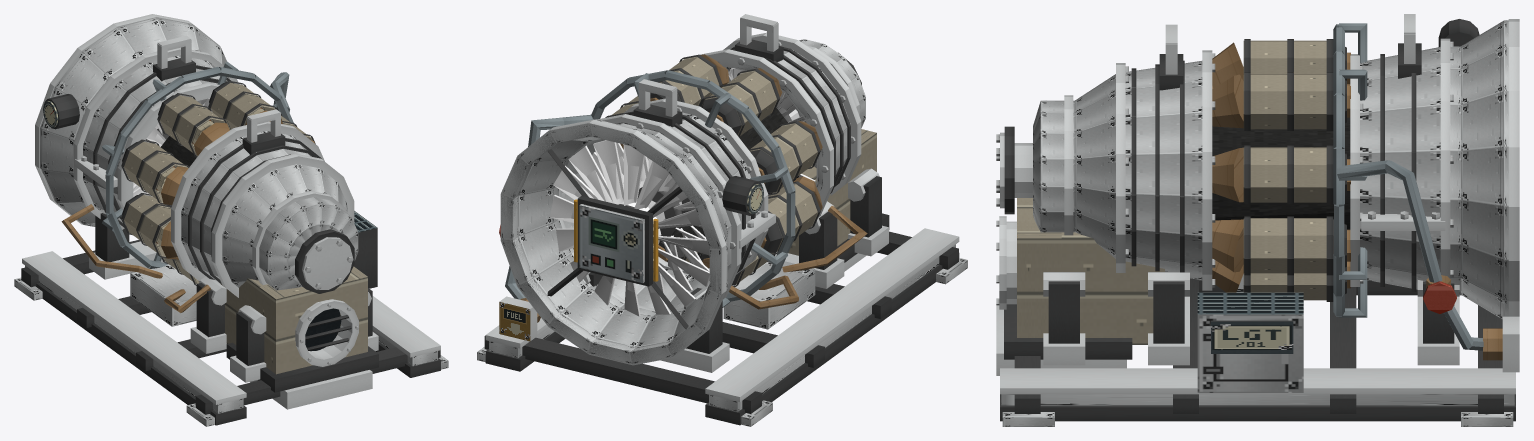
File: large_gas_turbine.obj
3 views of the same model, side by side, from view 1: azimuth 30°, elevation 25°; view 2: azimuth 150°, elevation 25°; view 3: azimuth 270°, elevation 25° (orthographic). The views are drawn at different scales.
Parts seen in each view (by area): view 1: skid, rear_bearing, intake, exhaust_collector, combustors, mounts, turbine_bands, compressor_bands, lubrication, turbine_shell, compressor_shell, rear_exhaust (+15 smaller); view 2: intake, skid, rotor, combustors, mounts, turbine_bands, compressor_bands, lubrication, controller, fuel_rail, lifting_eyes, compressor_shell (+14 smaller); view 3: skid, combustor_cover, intake, exhaust_collector, turbine_cover, compressor_cover, rear_bearing, service_cabinet, mounts, turbine_cover_bands, compressor_cover_bands, combustion_core (+10 smaller).
Boxes of the visible parts, left/top/right/bottom form: skid: left=14, top=240, right=448, bottom=426; rear_bearing: left=222, top=164, right=358, bottom=290; intake: left=35, top=14, right=226, bottom=226; exhaust_collector: left=220, top=266, right=378, bottom=392; combustors: left=121, top=93, right=229, bottom=285; mounts: left=89, top=213, right=378, bottom=382; turbine_bands: left=171, top=128, right=272, bottom=297; compressor_bands: left=73, top=55, right=181, bottom=233; lubrication: left=61, top=204, right=210, bottom=326; turbine_shell: left=181, top=138, right=263, bottom=281; compressor_shell: left=83, top=63, right=175, bottom=224; rear_exhaust: left=295, top=299, right=358, bottom=366; intake: left=500, top=119, right=731, bottom=365; skid: left=477, top=228, right=967, bottom=426; rotor: left=550, top=68, right=816, bottom=316; combustors: left=698, top=68, right=822, bottom=286; mounts: left=583, top=168, right=888, bottom=372; turbine_bands: left=758, top=40, right=861, bottom=217; compressor_bands: left=639, top=106, right=775, bottom=311; lubrication: left=723, top=205, right=867, bottom=329; controller: left=579, top=204, right=644, bottom=283; fuel_rail: left=705, top=81, right=795, bottom=307; lifting_eyes: left=633, top=14, right=783, bottom=127; compressor_shell: left=637, top=115, right=757, bottom=309; skid: left=1000, top=278, right=1515, bottom=426; combustor_cover: left=1212, top=72, right=1350, bottom=301; intake: left=1450, top=19, right=1519, bottom=319; exhaust_collector: left=1004, top=198, right=1164, bottom=359; turbine_cover: left=1125, top=62, right=1202, bottom=280; compressor_cover: left=1360, top=49, right=1440, bottom=289; rear_bearing: left=1033, top=74, right=1115, bottom=258; service_cabinet: left=1197, top=292, right=1303, bottom=392; mounts: left=1043, top=271, right=1459, bottom=365; turbine_cover_bands: left=1116, top=52, right=1215, bottom=290; compressor_cover_bands: left=1350, top=40, right=1453, bottom=291; combustion_core: left=1212, top=117, right=1350, bottom=229.
Size of the model in its own units: 2.89 by 2.74 by 4.
1 material, 1 textured.
